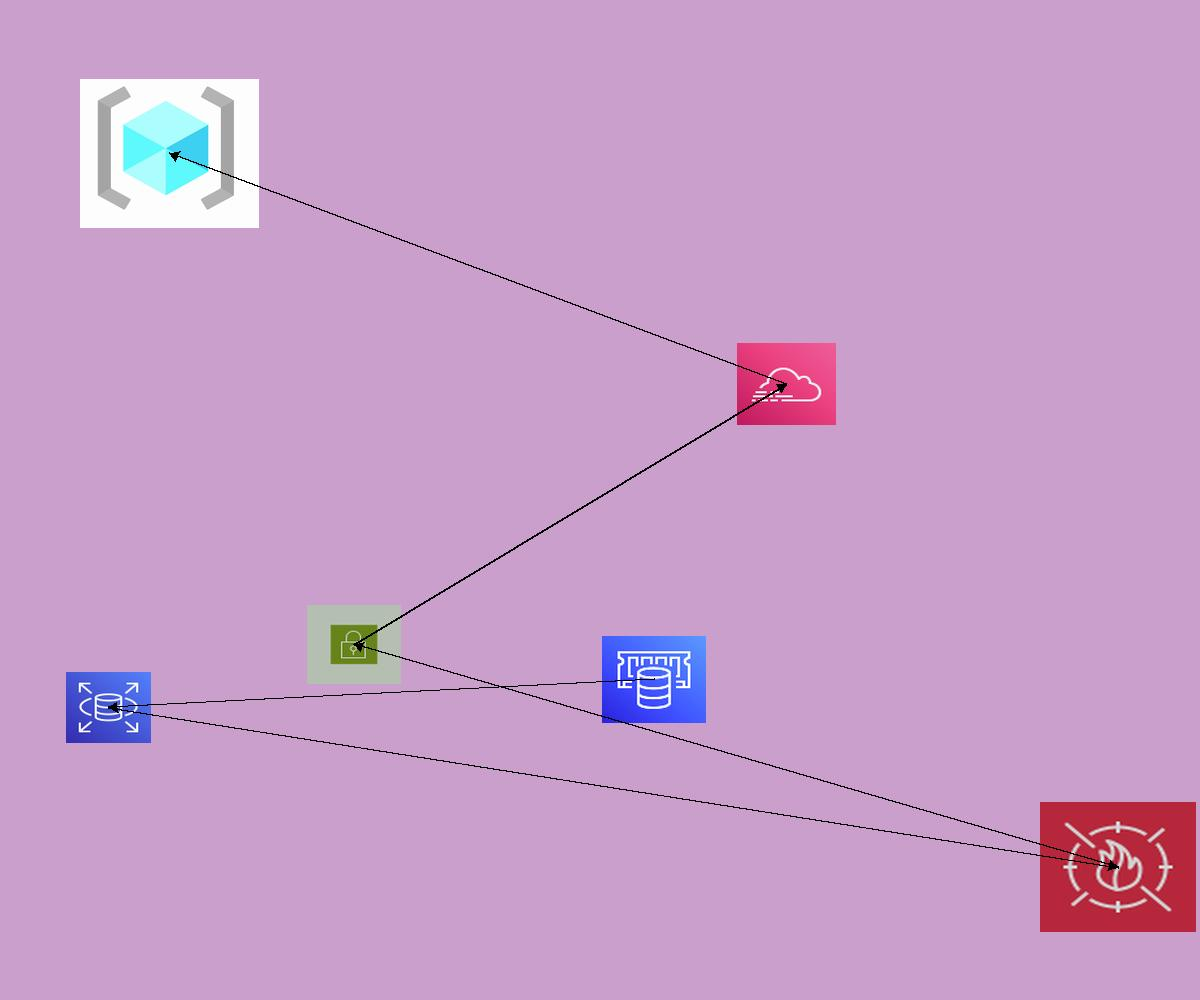AWS-CloudTrail: (737, 343, 836, 425)
AWS-ElastiCache: (602, 636, 706, 723)
AWS-Public-subnet: (307, 605, 401, 684)
AWS-RDS: (66, 672, 151, 743)
AWS-WAF: (1040, 802, 1196, 932)
Azure_resource_group: (80, 79, 259, 228)
